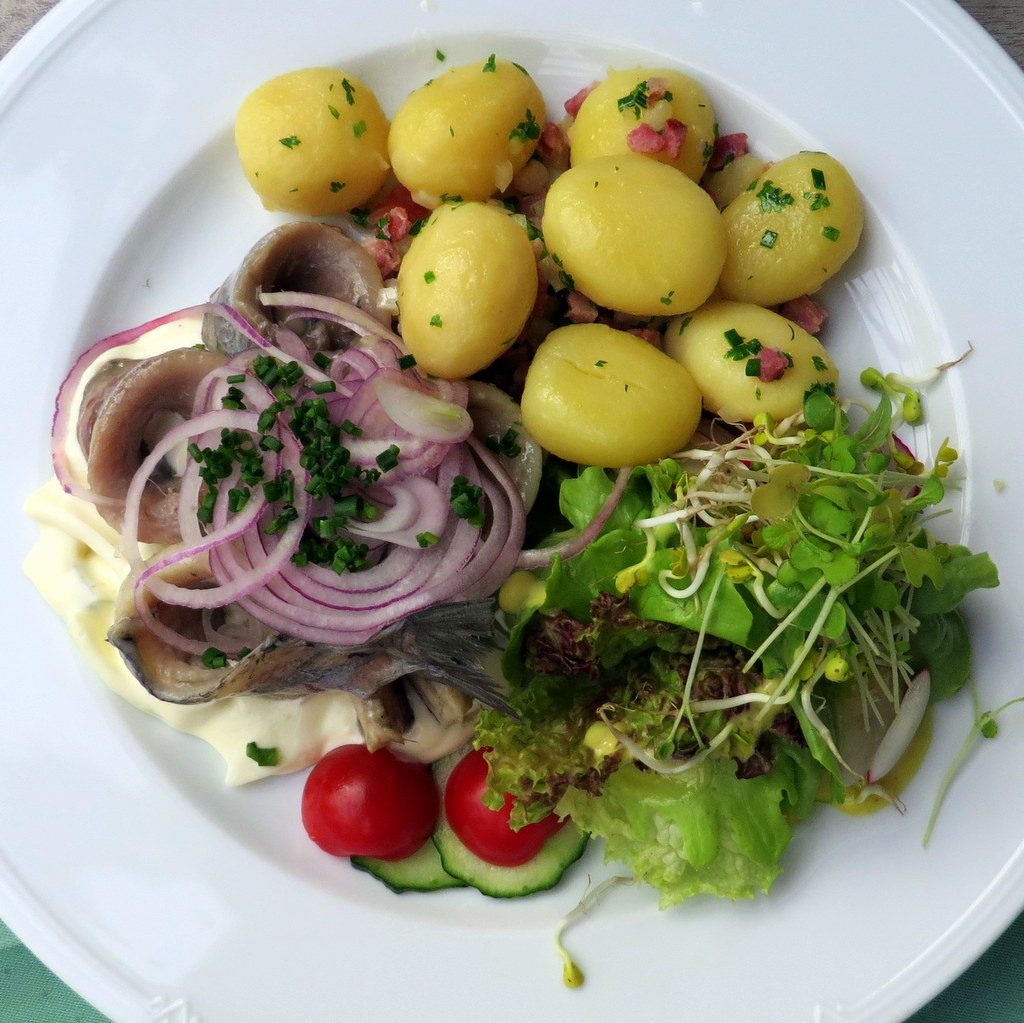boiled potatoes: (550, 154, 721, 320), (389, 61, 550, 203), (234, 70, 387, 216), (525, 324, 695, 455), (722, 151, 871, 299), (396, 213, 530, 370), (676, 309, 837, 423), (580, 66, 712, 179)
chopped lettuce: (504, 449, 967, 801)
